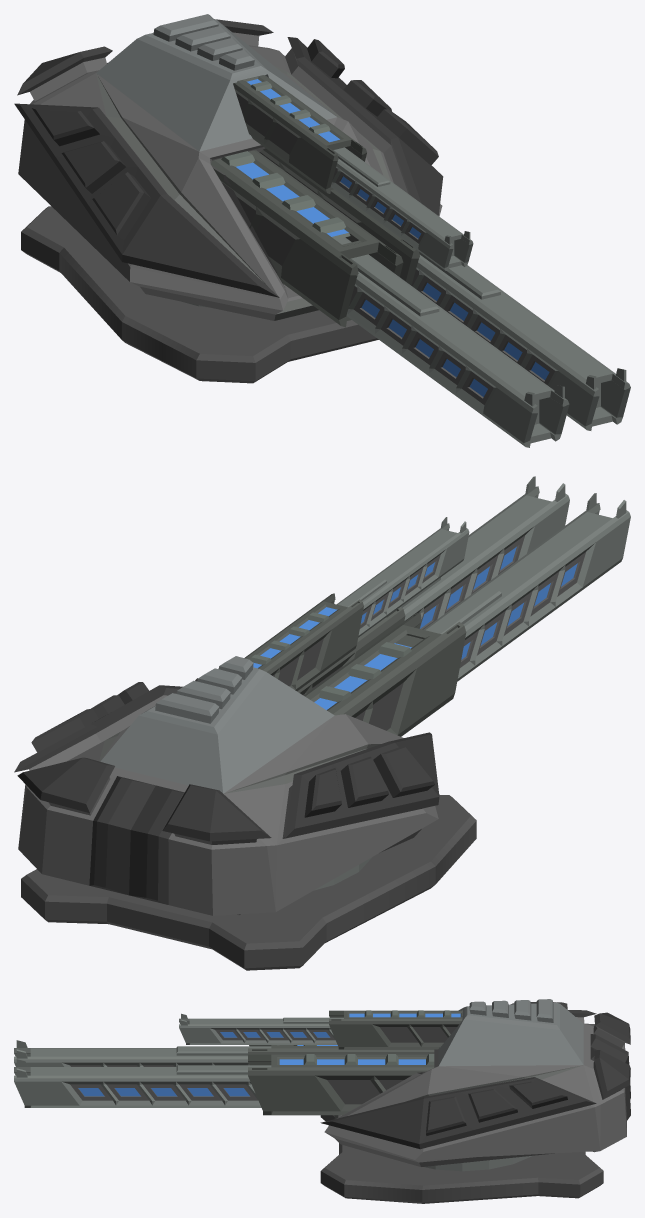
The model's file is model_polyfleet_battleship_railgun9.fbx.
The picture shows the model from 3 angles, top to bottom: view 1: azimuth 30°, elevation 25°; view 2: azimuth 150°, elevation 25°; view 3: azimuth 270°, elevation 25°; orthographic projection. The views are drawn at different scales.
Parts seen in each view (by area): view 1: model_weapon_rotate, model_railgun_barrel_front (×3), model_polyfleet_battleship_railgun9, model_railgun_barrel_left, model_railgun_barrel_top, model_railgun_barrel_right, emissive (×2), polySurface2; view 2: model_weapon_rotate, model_railgun_barrel_front (×3), model_polyfleet_battleship_railgun9, model_railgun_barrel_left, model_railgun_barrel_top, model_railgun_barrel_right, emissive, polySurface2; view 3: model_weapon_rotate, model_railgun_barrel_front (×3), model_polyfleet_battleship_railgun9, model_railgun_barrel_right, model_railgun_barrel_top, emissive (×4), model_railgun_barrel_left.
Boxes of the visible parts, x1,y1,x2,y2 form: model_weapon_rotate: (14, 14, 443, 320); model_railgun_barrel_front (×3): (330, 147, 630, 447); model_polyfleet_battleship_railgun9: (21, 206, 378, 383); model_railgun_barrel_left: (211, 150, 403, 327); model_railgun_barrel_top: (233, 75, 366, 193); model_railgun_barrel_right: (259, 148, 419, 285); emissive (×2): (236, 162, 549, 379); polySurface2: (361, 300, 487, 396); model_weapon_rotate: (14, 656, 439, 915); model_railgun_barrel_front (×3): (337, 476, 630, 681); model_polyfleet_battleship_railgun9: (21, 794, 476, 970); model_railgun_barrel_left: (304, 612, 466, 736); model_railgun_barrel_top: (244, 593, 363, 691); model_railgun_barrel_right: (297, 607, 405, 695); emissive: (314, 643, 411, 709); polySurface2: (461, 563, 577, 659); model_weapon_rotate: (320, 999, 630, 1171); model_railgun_barrel_front (×3): (14, 1013, 343, 1107); model_polyfleet_battleship_railgun9: (320, 1115, 603, 1203); model_railgun_barrel_right: (248, 1054, 434, 1115); model_railgun_barrel_top: (329, 1010, 462, 1049); emissive (×4): (78, 1013, 460, 1096); model_railgun_barrel_left: (248, 1045, 434, 1054).
Bounding box in the file's own units: 258 × 170 × 636.
